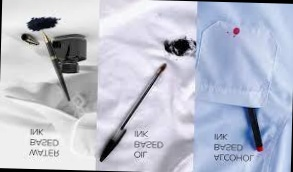ink: (26, 15, 59, 33), (165, 38, 193, 56), (232, 27, 239, 34)
